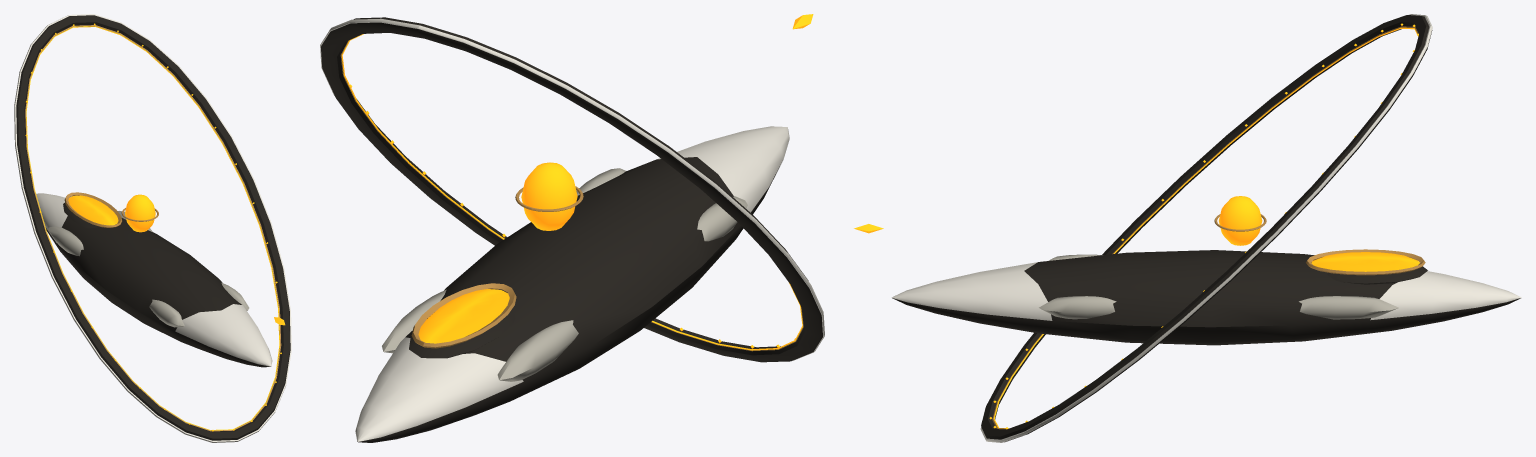
The model's file is 08_forschung.glb.
3 views of the same model, side by side, from view 1: azimuth 30°, elevation 25°; view 2: azimuth 150°, elevation 25°; view 3: azimuth 270°, elevation 25° (orthographic). The views are drawn at different scales.
Parts seen in each view (by area): view 1: Hull, sensor_array; view 2: Hull, sensor_array; view 3: Hull, sensor_array.
Part boxes in pixels (x1,y1,x2,y2): Hull: (36,192,272,367); sensor_array: (14,14,291,442); Hull: (355,126,789,442); sensor_array: (320,17,824,362); Hull: (891,249,1521,345); sensor_array: (980,14,1432,442).
Bounding box in the file's own units: 4.51 × 5.95 × 8.89.
